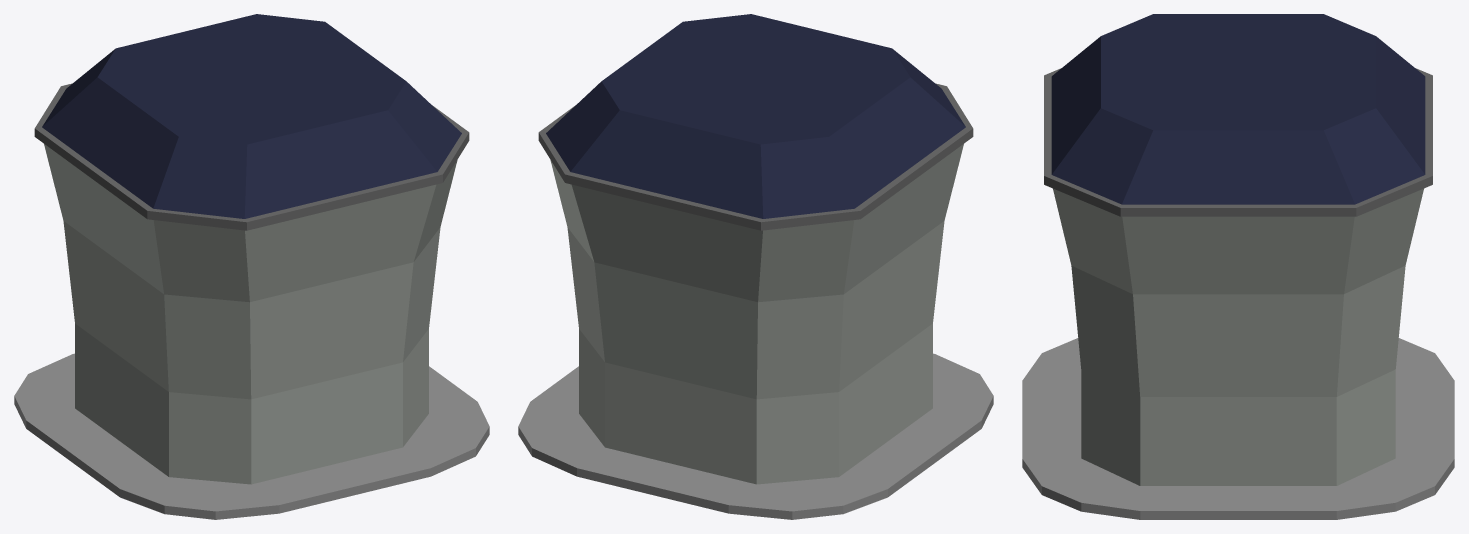
Rendered from p-bld-background-9.glb.
3 views of the same model, side by side, from view 1: azimuth 30°, elevation 25°; view 2: azimuth 150°, elevation 25°; view 3: azimuth 270°, elevation 25° (orthographic). The views are drawn at different scales.
Parts seen in each view (by area): view 1: Cube; view 2: Cube; view 3: Cube.
Boxes of the visible parts, x1=… form: Cube: x1=14, y1=14, x2=489, y2=519; Cube: x1=518, y1=14, x2=993, y2=519; Cube: x1=1022, y1=14, x2=1454, y2=519.
Bounding box in the file's own units: 22 × 20 × 22.
